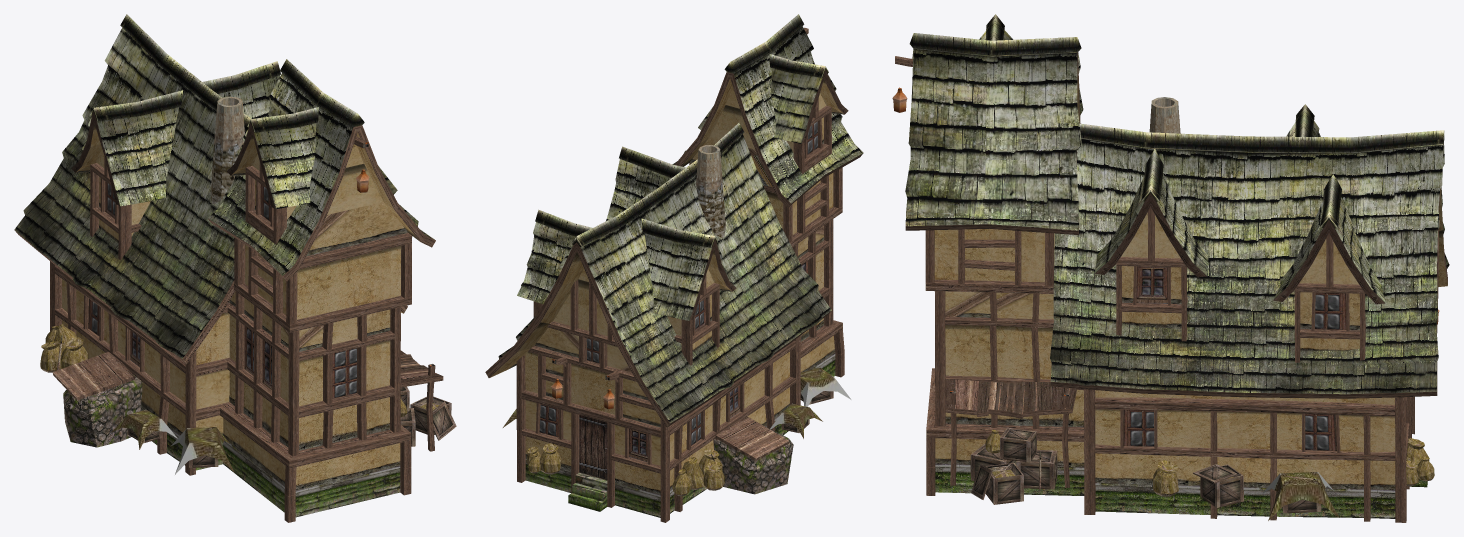
The model's file is house6.obj.
The picture shows the model from 3 angles, left to right: view 1: azimuth 30°, elevation 25°; view 2: azimuth 150°, elevation 25°; view 3: azimuth 270°, elevation 25°; orthographic projection. The views are drawn at different scales.
Visible parts, largest first — view 1: house, roof; view 2: house, roof; view 3: roof, house.
Part boxes in pixels (bbox=[...]): house: bbox=[14, 96, 456, 522]; roof: bbox=[14, 14, 434, 358]; house: bbox=[485, 27, 863, 522]; roof: bbox=[498, 14, 863, 423]; roof: bbox=[905, 14, 1449, 394]; house: bbox=[892, 52, 1447, 522].
Size of what is drawn, in the model's own units: 8.62 by 11.44 by 13.17.
